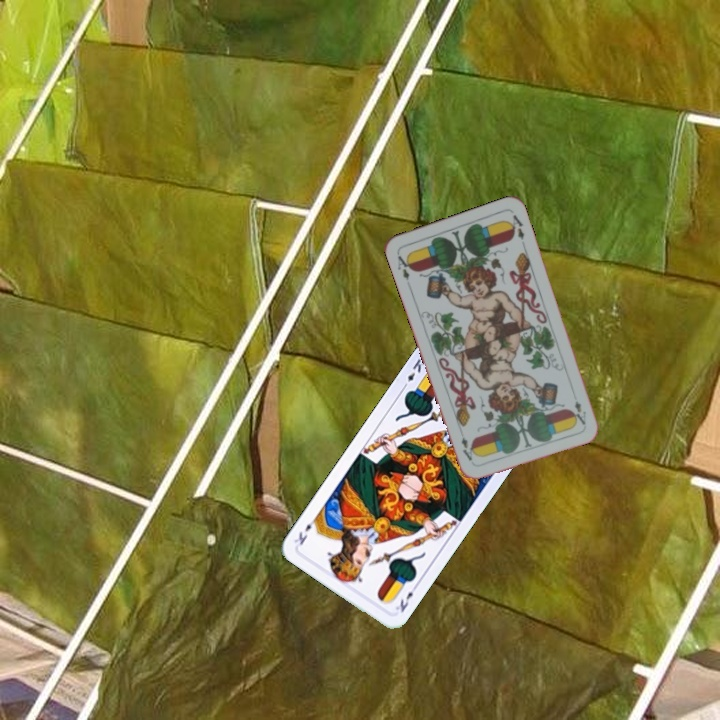EA: (393, 252, 415, 283), (570, 397, 589, 427)
EK: (398, 354, 429, 392), (391, 580, 420, 615)
